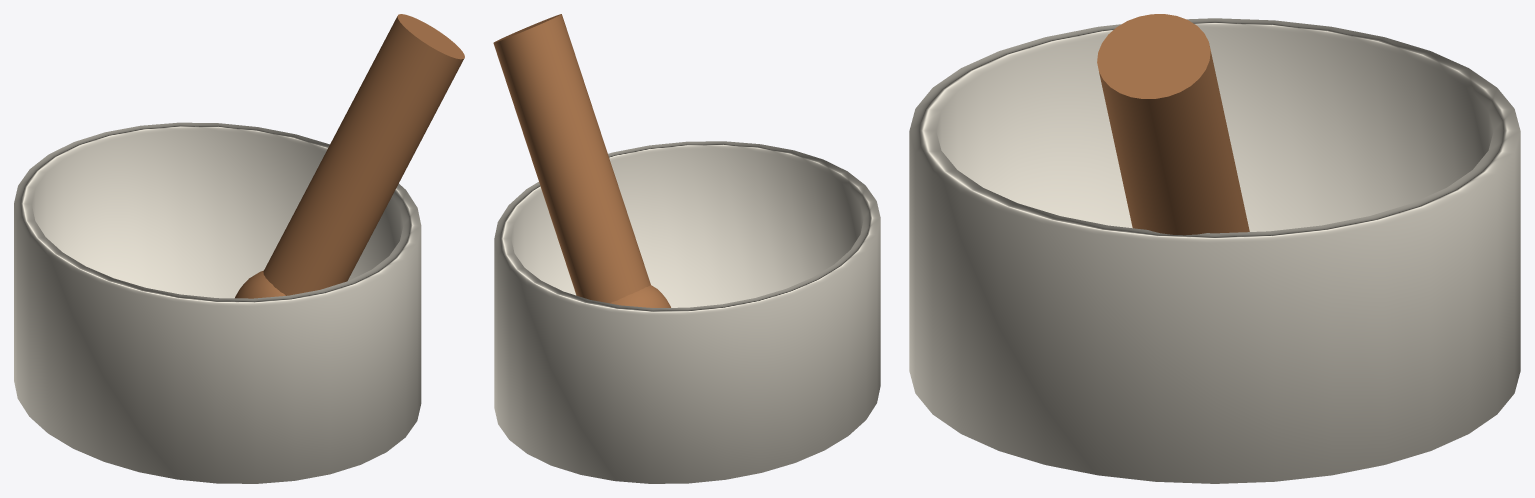
File: wp-mortier-et-pilon.glb
The picture shows the model from 3 angles, left to right: view 1: azimuth 30°, elevation 25°; view 2: azimuth 150°, elevation 25°; view 3: azimuth 270°, elevation 25°; orthographic projection. The views are drawn at different scales.
Parts seen in each view (by area): view 1: wp-mortier-et-pilon; view 2: wp-mortier-et-pilon; view 3: wp-mortier-et-pilon.
Part boxes in pixels (x1,y1,x2,y2): wp-mortier-et-pilon: (14, 14, 464, 483); wp-mortier-et-pilon: (493, 14, 880, 483); wp-mortier-et-pilon: (909, 14, 1520, 483).
Size of the model in its own units: 0.1995 by 0.178 by 0.2.
